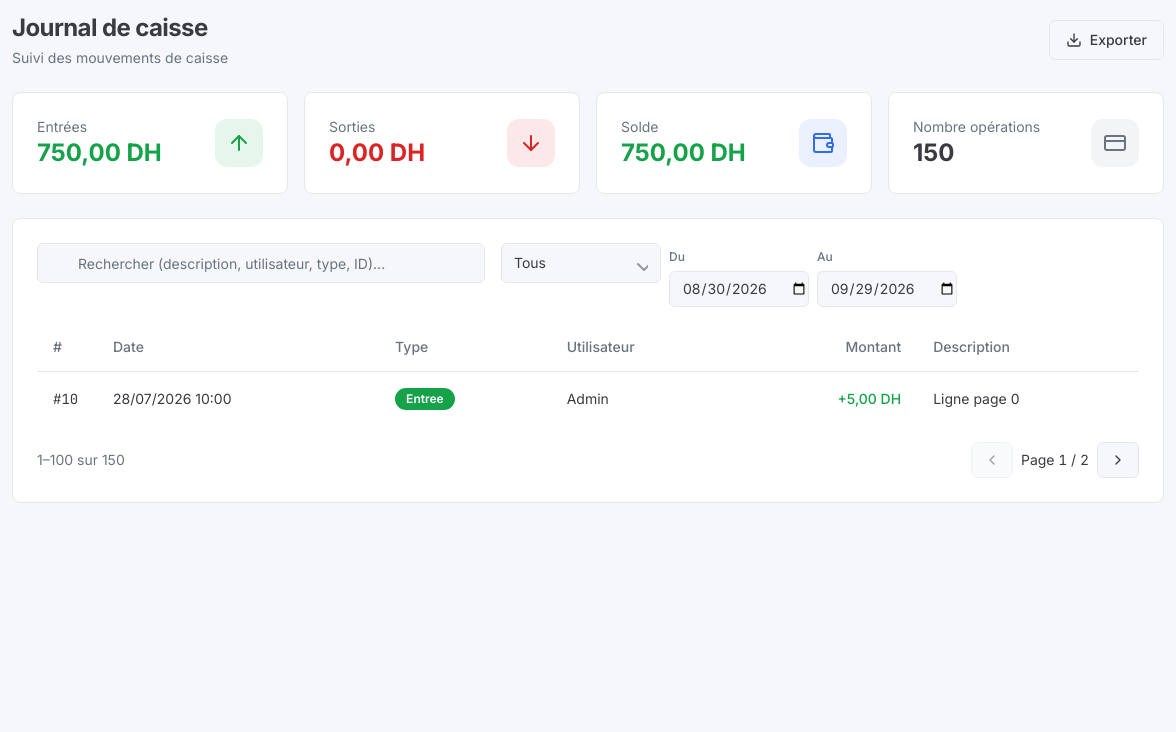
Test: JournalCaisse › demande la page suivante au serveur
What coordinates should you click on to do the following:
click the button named "Page suivante"
I would click on:
 (1118, 460)
Its box is 1097,442 -> 1139,478.
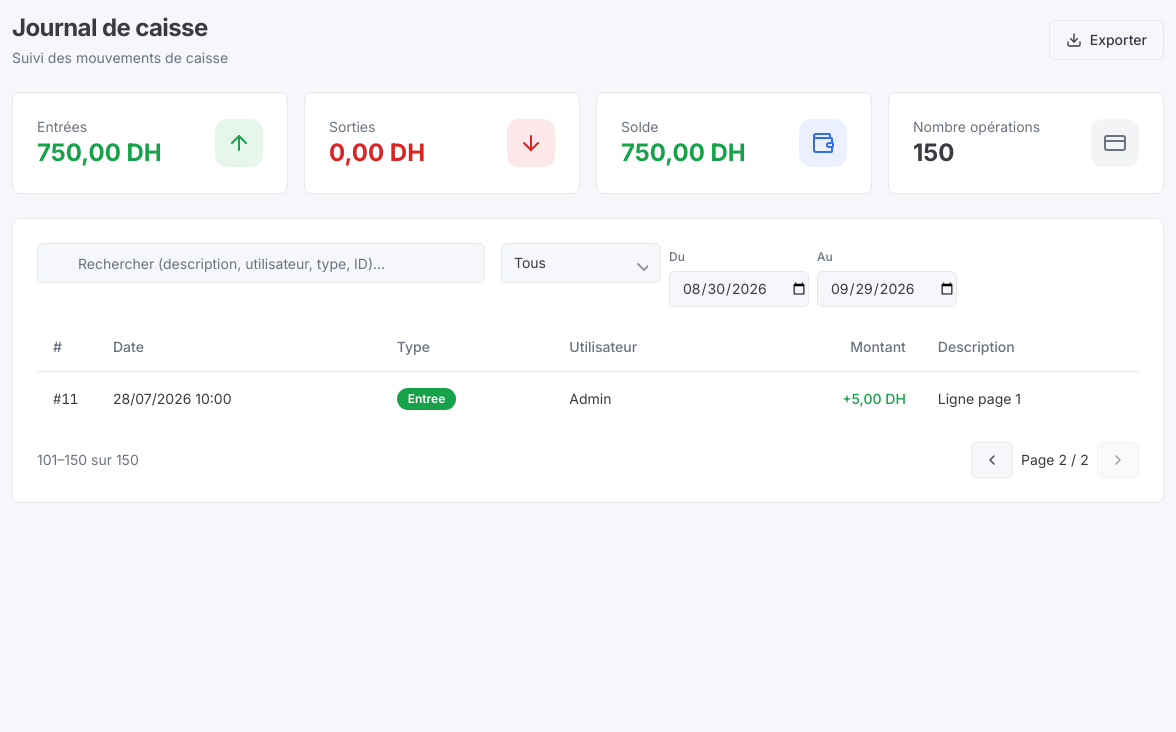
Result: the text "Ligne page 1" is shown at 922,371 -> 1139,426
